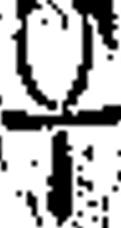Ankh: (1, 4, 120, 220)
